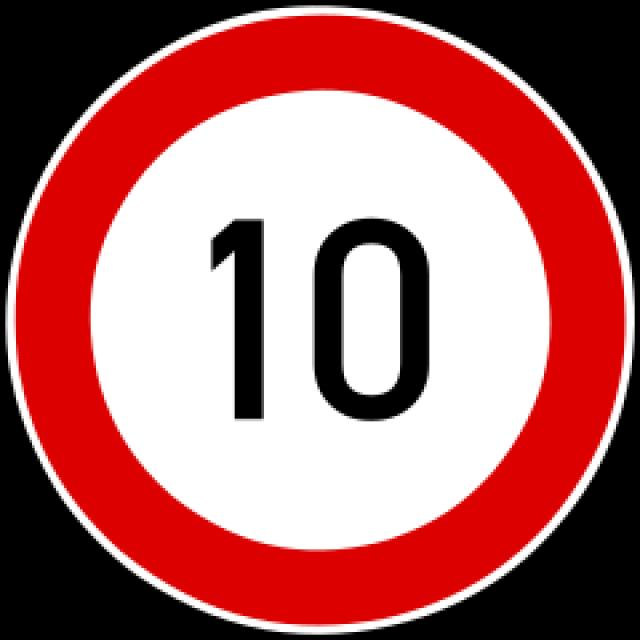Speed Limit -10-: (205, 208, 435, 428)
